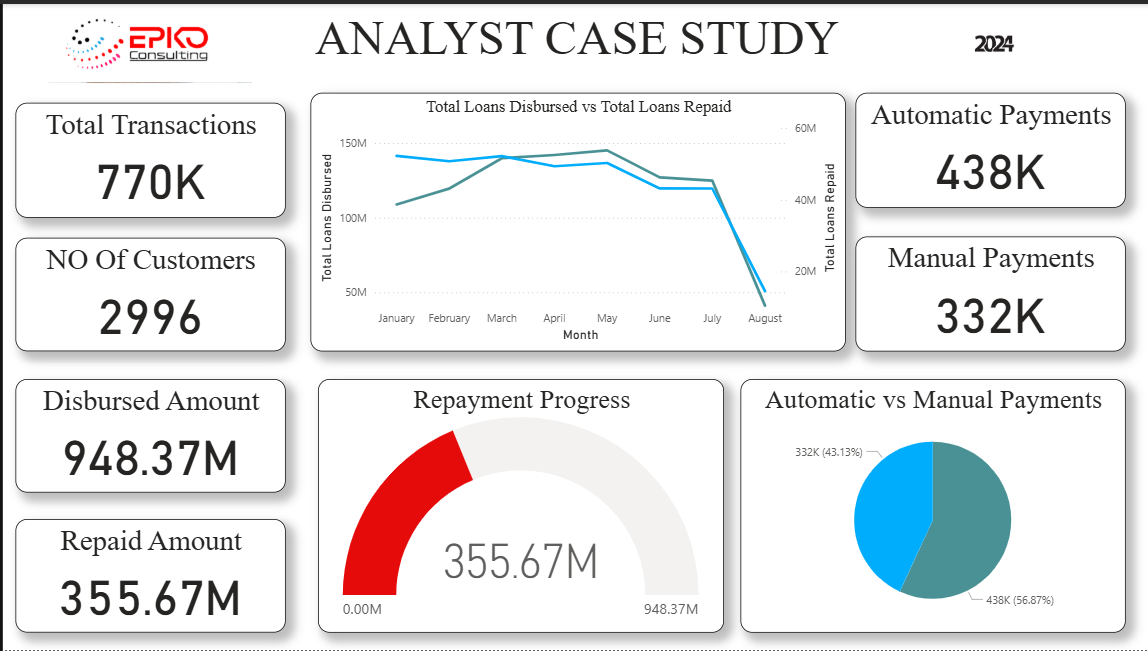

Layout of this report page (visuals, bound fields, positions):
{"tool":"powerbi","page":{"name":"Page 1","canvas":[1280,720],"ordinal":0},"visuals":[{"type":"textbox","box":[342.3,2.8,612.3,76.5],"z":0},{"type":"card","title":"Total Transactions","fields":{"Values":["VW_Loan_Disbursement_and_Repayment.Total Transactions"]},"box":[13.9,109.9,300.6,128],"z":1000},{"type":"lineChart","title":"Total Loans Disbursed vs Total Loans Repaid ","fields":{"Category":["VW_Loan_Disbursement_and_Repayment.disb_date.Variation.Date Hierarchy.Month"],"Y":["VW_Loan_Disbursement_and_Repayment.Total Loans Disbursed"],"Y2":["VW_Loan_Disbursement_and_Repayment.Total Loans Repaid"]},"box":[342.3,98.8,595.6,288.1],"z":2000},{"type":"card","title":"Disbursed Amount","fields":{"Values":["VW_Loan_Disbursement_and_Repayment.Total Loans Disbursed"]},"box":[13.9,417.5,300.6,126.6],"z":3000},{"type":"card","title":"Repaid Amount","fields":{"Values":["VW_Loan_Disbursement_and_Repayment.Total Loans Repaid"]},"box":[13.9,573.3,300.6,126.6],"z":4000},{"type":"card","title":"NO Of Customers","fields":{"Values":["VW_Loan_Disbursement_and_Repayment.NO Of Customers"]},"box":[13.9,260.2,300.6,126.6],"z":5000},{"type":"card","title":"Automatic Payments","fields":{"Values":["VW_Loan_Disbursement_and_Repayment.Automatic Payments"]},"box":[949.1,98.8,300.6,128],"z":6000},{"type":"card","title":"Manual Payments","fields":{"Values":["VW_Loan_Disbursement_and_Repayment.Manual Payments"]},"box":[949.1,258.8,300.6,128],"z":7000},{"type":"image","box":[23.7,0,281.1,93.2],"z":8000},{"type":"pieChart","title":"Automatic vs Manual Payments","fields":{"Y":["VW_Loan_Disbursement_and_Repayment.Automatic Payments","VW_Loan_Disbursement_and_Repayment.Manual Payments"]},"box":[821.1,417.5,428.6,282.5],"z":9000},{"type":"gauge","title":"Repayment Progress","fields":{"Y":["VW_Loan_Disbursement_and_Repayment.Total Loans Repaid"],"MaxValue":["VW_Loan_Disbursement_and_Repayment.Total Loans Disbursed"]},"box":[350.7,417.5,452.3,282.5],"z":10000},{"type":"image","box":[954.6,13.9,299.2,65.4],"z":10001}]}

Visuals, with their boxes in screenshot pixels (x1, y1, x2, y2), scaled from the page's 1280x720 canvas onto the 1148x651 screenshot:
textbox: <bbox>307, 3, 856, 72</bbox>
"Total Transactions" card: <bbox>12, 99, 282, 215</bbox>
"Total Loans Disbursed vs Total Loans Repaid " lineChart: <bbox>307, 89, 841, 350</bbox>
"Disbursed Amount" card: <bbox>12, 377, 282, 492</bbox>
"Repaid Amount" card: <bbox>12, 518, 282, 633</bbox>
"NO Of Customers" card: <bbox>12, 235, 282, 350</bbox>
"Automatic Payments" card: <bbox>851, 89, 1121, 205</bbox>
"Manual Payments" card: <bbox>851, 234, 1121, 350</bbox>
image: <bbox>21, 0, 273, 84</bbox>
"Automatic vs Manual Payments" pieChart: <bbox>736, 377, 1121, 633</bbox>
"Repayment Progress" gauge: <bbox>315, 377, 720, 633</bbox>
image: <bbox>856, 13, 1125, 72</bbox>
